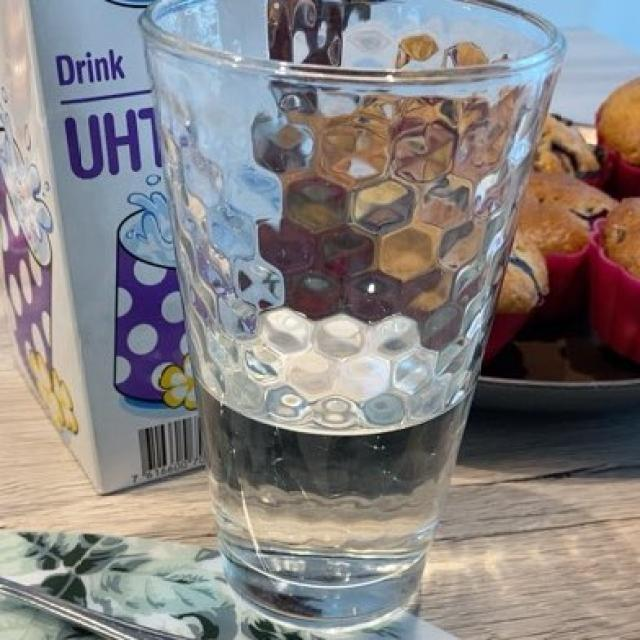water: (206, 331, 470, 568)
